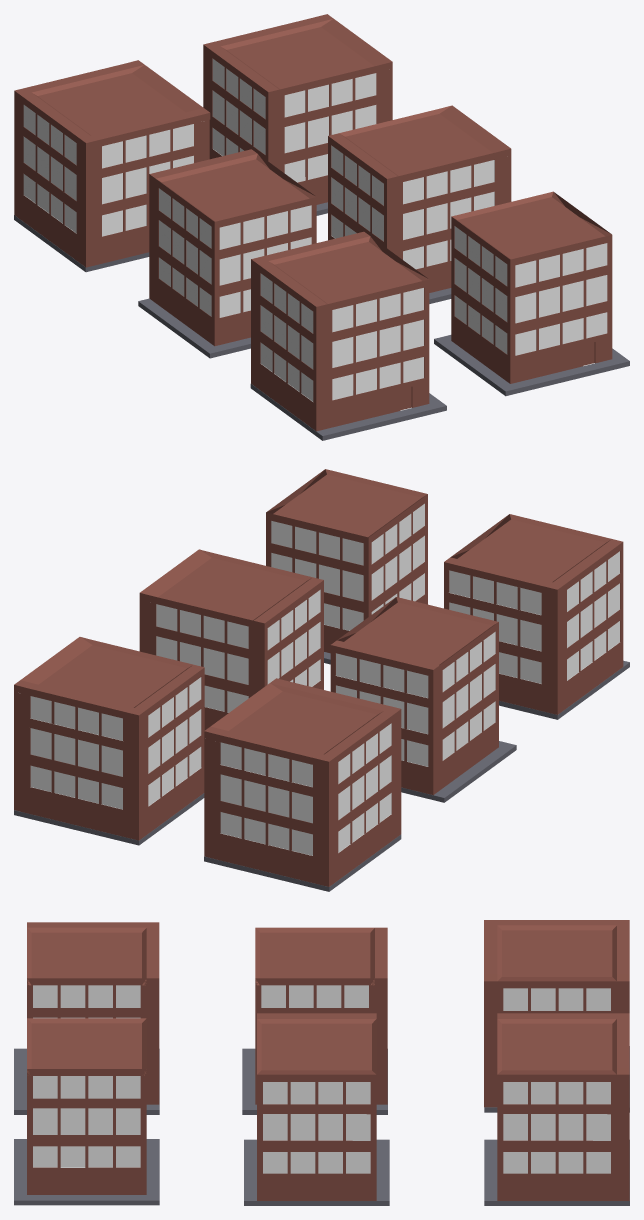
File: building.gltf
3 views of the same model, one above another, from view 1: azimuth 30°, elevation 25°; view 2: azimuth 150°, elevation 25°; view 3: azimuth 270°, elevation 25° (orthographic).
Visible parts, largest first — view 1: Building_corner, Building_hidden, Building_island, Building_single_corner, Building_one_side, Building_two_sides; view 2: Building_hidden, Building_one_side, Building_corner, Building_single_corner, Building_two_sides, Building_island; view 3: Building_one_side, Building_two_sides, Building_island, Building_hidden, Building_corner, Building_single_corner.
Boxes of the visible parts, box(x1,y1,x2,y2) form: Building_corner: box(250, 231, 446, 440); Building_hidden: box(14, 60, 210, 272); Building_island: box(434, 191, 629, 396); Building_single_corner: box(138, 149, 316, 358); Building_one_side: box(203, 14, 392, 215); Building_two_sides: box(328, 105, 511, 303); Building_hidden: box(204, 678, 401, 891); Building_one_side: box(14, 637, 204, 845); Building_corner: box(444, 514, 629, 719); Building_single_corner: box(330, 597, 516, 802); Building_two_sides: box(139, 549, 323, 730); Building_island: box(266, 469, 427, 664); Building_one_side: box(484, 1013, 629, 1205); Building_two_sides: box(244, 1013, 389, 1205); Building_island: box(14, 1018, 159, 1205); Building_hidden: box(484, 920, 629, 1112); Building_corner: box(14, 922, 159, 1114); Building_single_corner: box(242, 927, 387, 1114).
Bounding box in the file's own units: 76.82 × 30.32 × 129.
